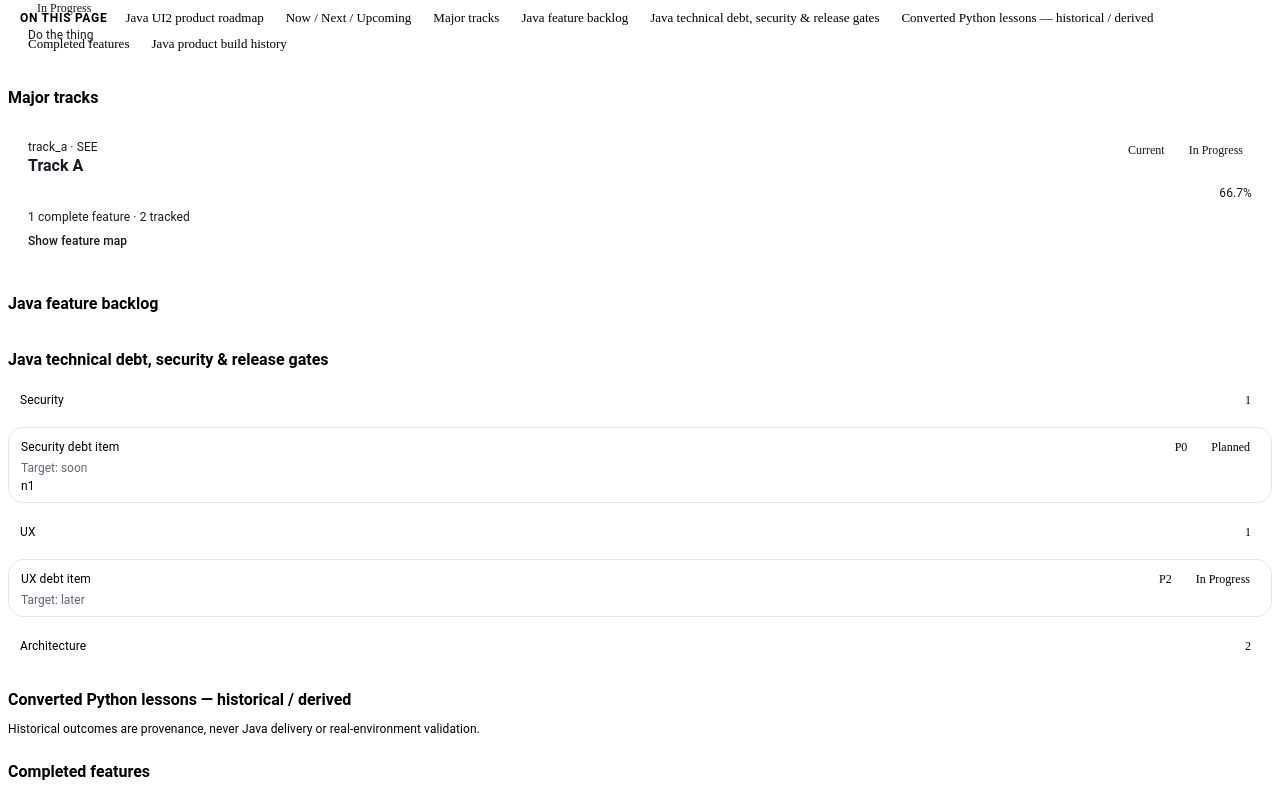
ProjectPlanPanel backlog grouping and expansion rule › collapses an expanded-by-default category back on a second click
This screenshot has width=1280, height=800.
(page scrolled)
Check: the text "Security debt item" is shown, box [21, 439, 119, 455]
Step 1. Click the button labelled "Security 1" → (42, 400), box [20, 393, 1251, 407]
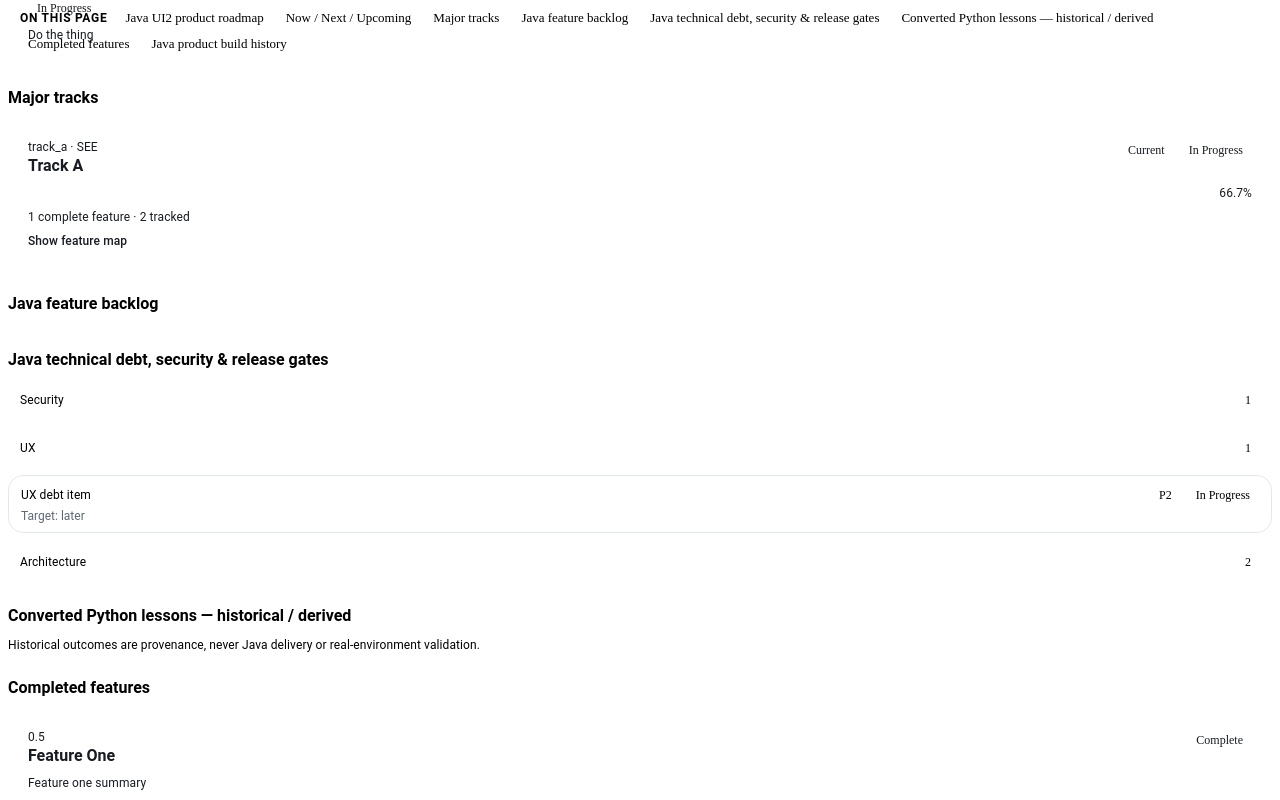
Check: the text "Security debt item" is gone
